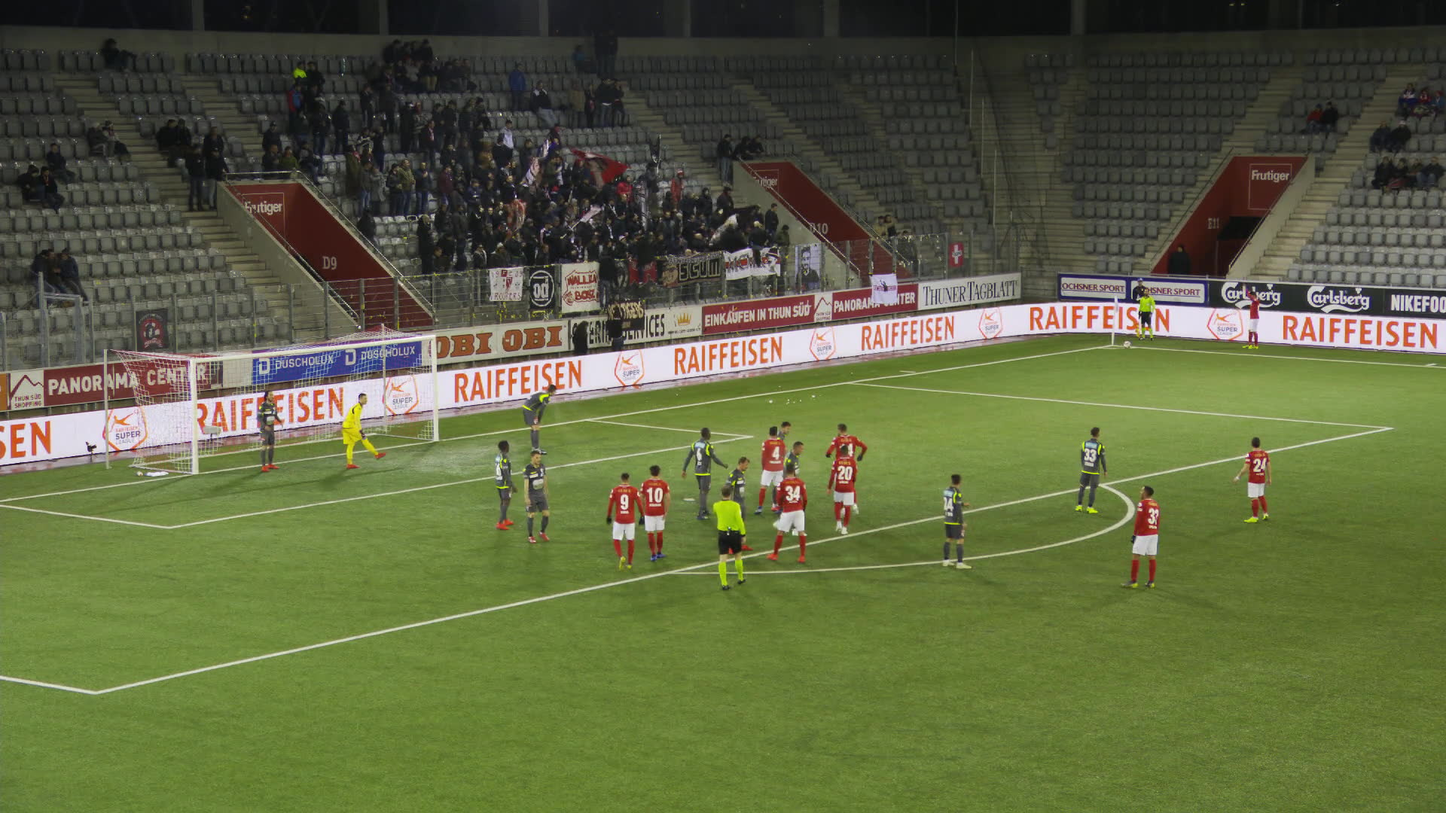ball: (1124, 341, 1130, 347)
player: (1117, 484, 1161, 587), (680, 428, 727, 519), (764, 462, 805, 563), (826, 424, 867, 519), (607, 473, 644, 571), (771, 440, 807, 536), (341, 393, 385, 468), (520, 450, 554, 544), (1234, 437, 1271, 522), (722, 455, 754, 553), (637, 464, 670, 559), (827, 446, 861, 536), (754, 425, 787, 514), (941, 473, 971, 569), (1075, 425, 1107, 513), (522, 385, 557, 454), (493, 440, 520, 529), (255, 391, 282, 472), (769, 422, 789, 512), (1241, 287, 1258, 349)
referee: (710, 488, 748, 589), (1138, 288, 1155, 341)
